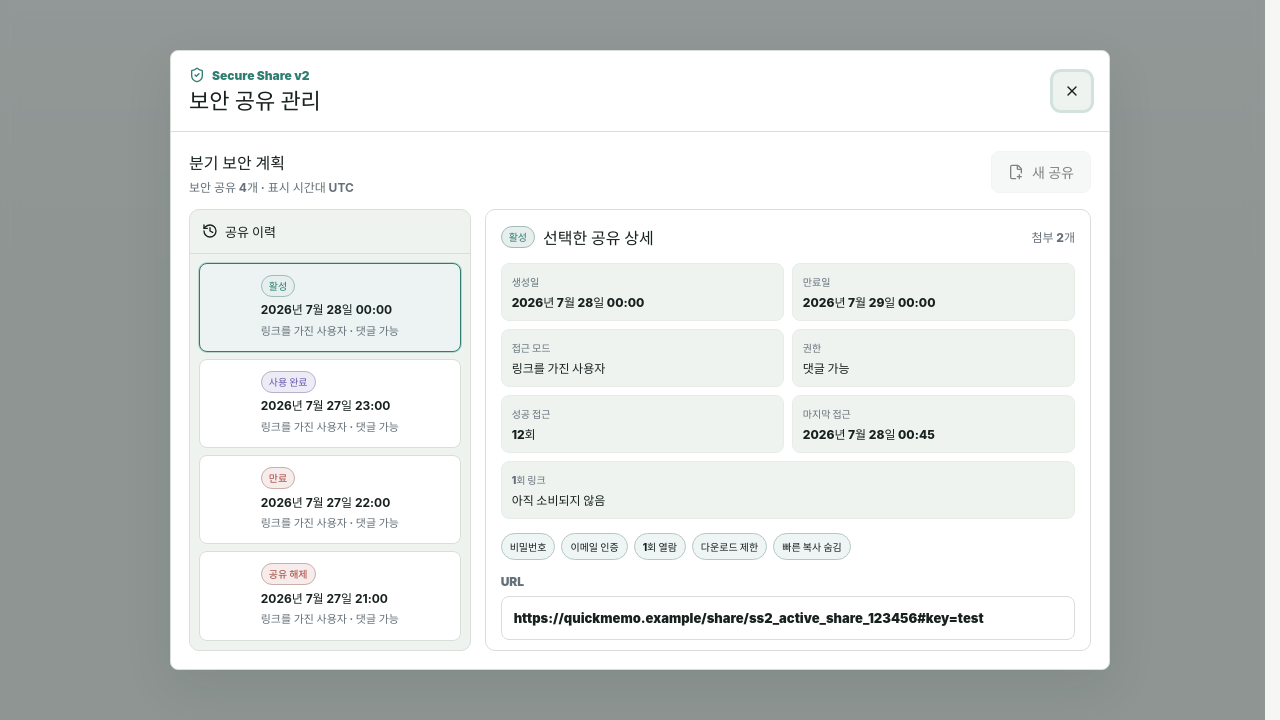
Scenario: SecureShareOwnerModal management history › drops a late comment response after selecting another share
Click the button "사용 완료" at (330,404), box [199,359,461,448]
(page scrolled)
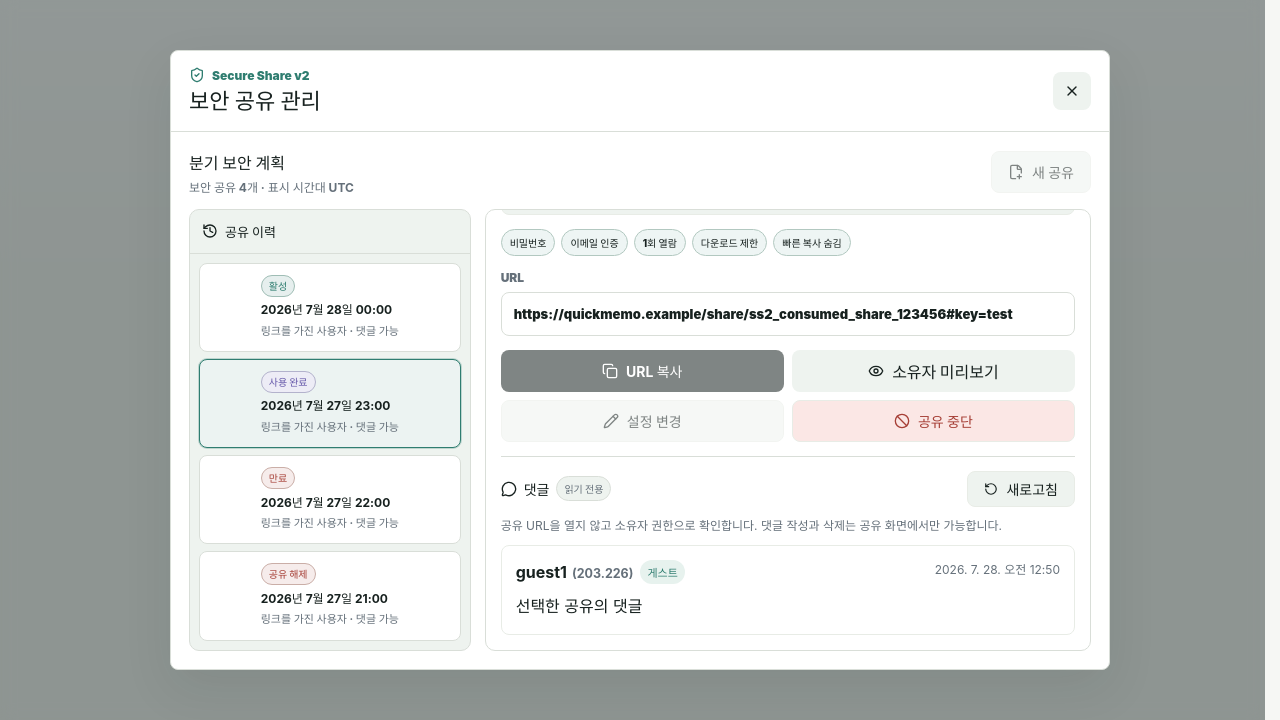
expect the text "선택한 공유의 댓글" is shown: met, box [516,596,642,616]
